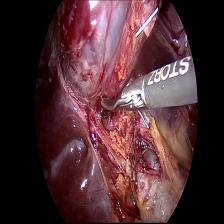Scissors: (98, 77, 153, 126)
